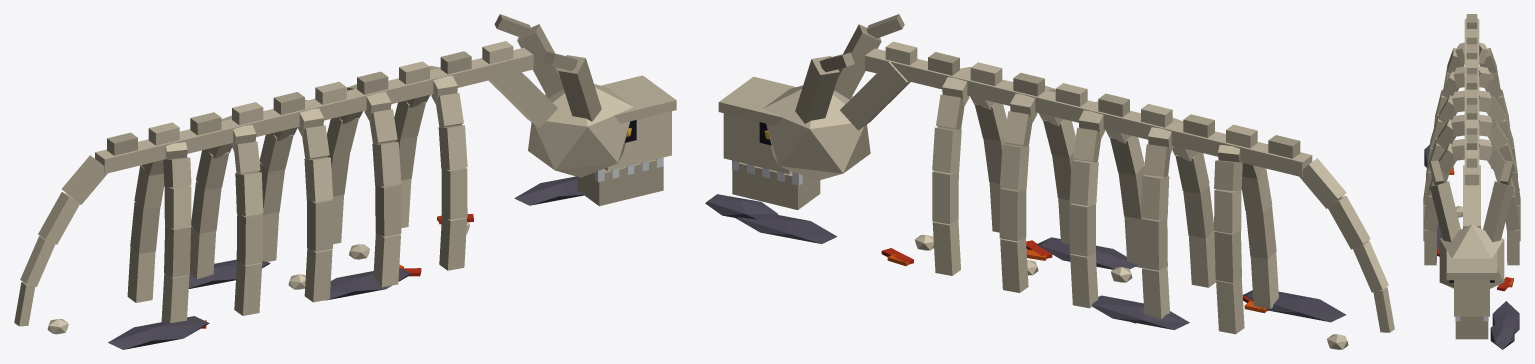
The model's file is Decor_Volcano_Fossil.fbx.
3 views of the same model, side by side, from view 1: azimuth 30°, elevation 25°; view 2: azimuth 150°, elevation 25°; view 3: azimuth 270°, elevation 25° (orthographic). The views are drawn at different scales.
Parts seen in each view (by area): view 1: Fossil_Body; view 2: Fossil_Body; view 3: Fossil_Body.
Part boxes in pixels (box(x1,y1,x2,y2)): Fossil_Body: box(14, 14, 676, 349); Fossil_Body: box(705, 14, 1394, 349); Fossil_Body: box(1423, 14, 1520, 349).
Bounding box in the file's own units: 27 × 7.6 × 4.7.
